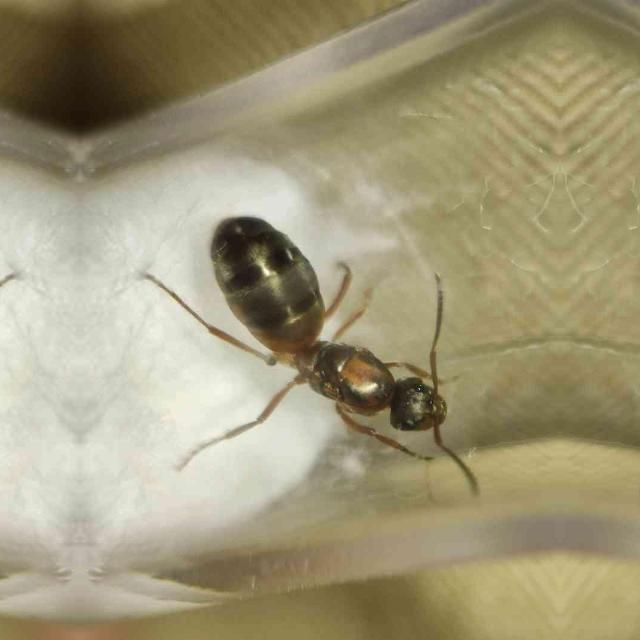Formica: (132, 176, 488, 474)
